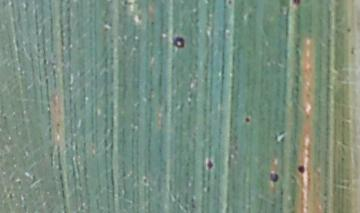tarspot: (171, 35, 185, 50), (268, 171, 279, 184), (206, 158, 215, 171), (296, 164, 306, 174), (290, 1, 302, 8), (321, 190, 330, 198), (142, 176, 149, 186), (349, 45, 355, 56), (7, 191, 15, 199), (102, 26, 110, 34), (243, 116, 250, 124), (3, 113, 8, 123), (339, 155, 346, 162), (345, 27, 352, 33), (149, 19, 155, 26), (227, 1, 233, 6), (122, 1, 128, 6), (102, 19, 108, 24)
